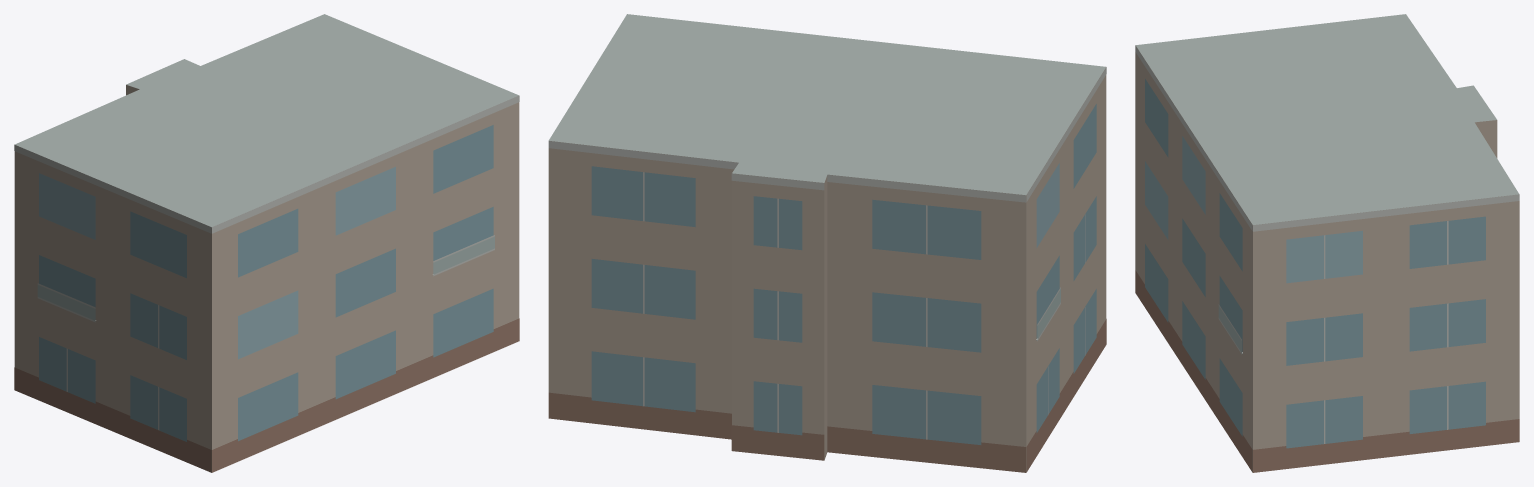
File: survey-upis-32976217.glb
The picture shows the model from 3 angles, left to right: view 1: azimuth 30°, elevation 25°; view 2: azimuth 150°, elevation 25°; view 3: azimuth 270°, elevation 25°; orthographic projection. The views are drawn at different scales.
Parts seen in each view (by area): view 1: survey-upis-32976217.tmp; view 2: survey-upis-32976217.tmp; view 3: survey-upis-32976217.tmp.
Boxes of the visible parts, x1,y1,x2,y2 form: survey-upis-32976217.tmp: [14, 14, 519, 472]; survey-upis-32976217.tmp: [548, 14, 1106, 472]; survey-upis-32976217.tmp: [1135, 14, 1519, 472].
Bounding box in the file's own units: 16.74 × 9.15 × 12.87.
